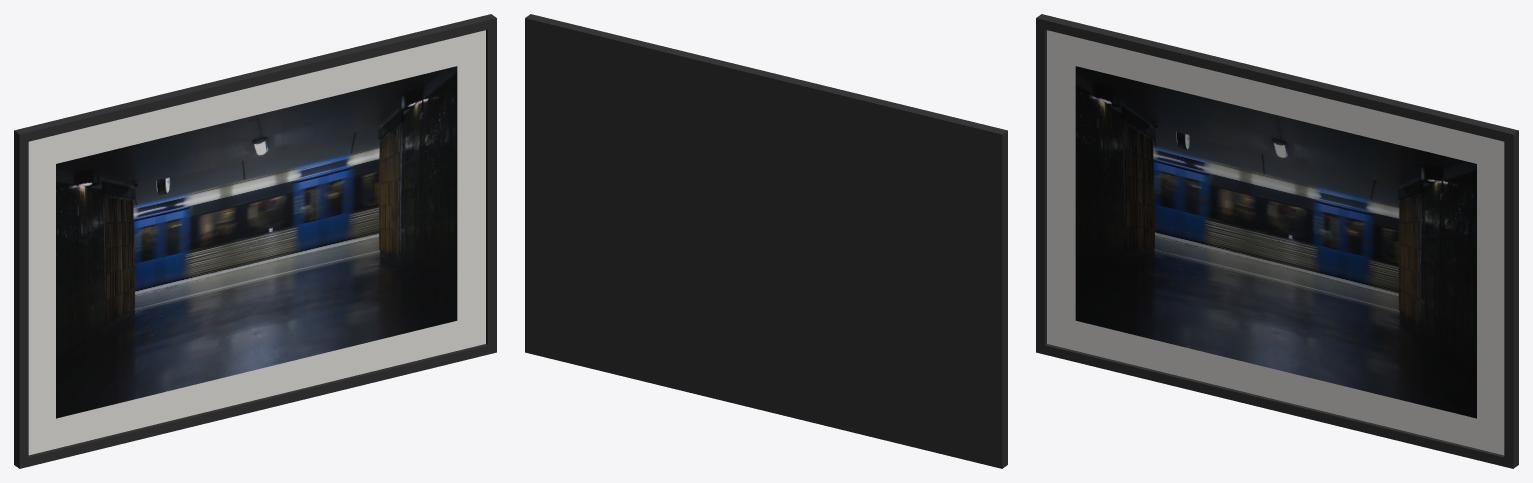
The model's file is taget-90.gltf.
3 views of the same model, side by side, from view 1: azimuth 30°, elevation 25°; view 2: azimuth 150°, elevation 25°; view 3: azimuth 330°, elevation 25° (orthographic).
Visible parts, largest first — view 1: tavla; view 2: tavla; view 3: tavla.
Boxes of the visible parts, <box> form: tavla: <box>14,14,496,468</box>; tavla: <box>525,14,1007,468</box>; tavla: <box>1036,14,1518,468</box>.
Bounding box in the file's own units: 1.07 × 0.717 × 0.022.
3 materials, 1 textured.
